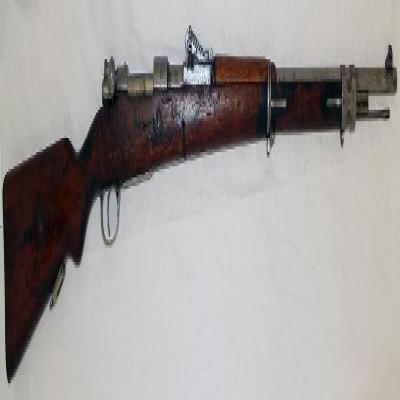weapon: (2, 28, 400, 383)
